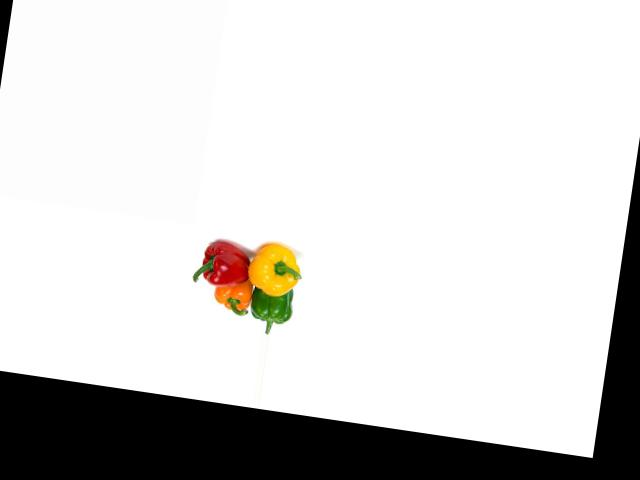bell_pepper: (243, 238, 309, 300)
